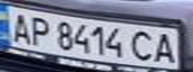1: (87, 24, 106, 56)
4: (106, 25, 130, 58), (69, 21, 90, 54)
8: (51, 18, 75, 52)
A: (6, 10, 36, 44), (151, 30, 178, 64)
C: (127, 28, 160, 62)
P: (24, 14, 54, 47)
